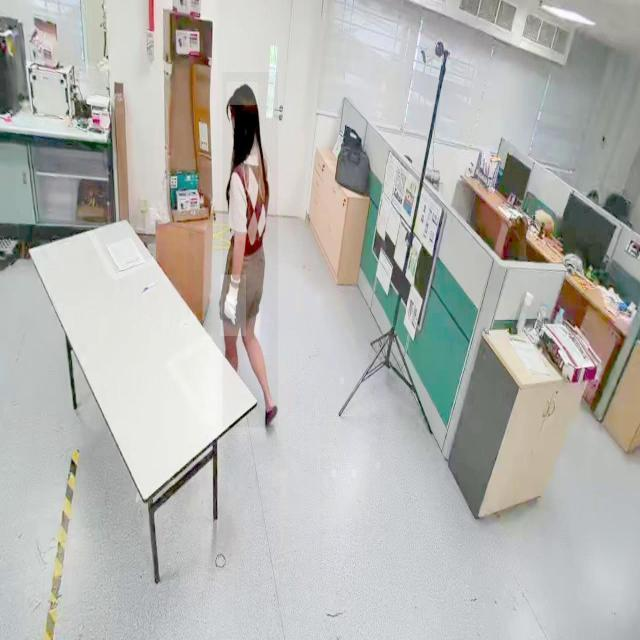hand_glove: (220, 275, 247, 337)
head_nohelmet: (227, 82, 259, 106)
person: (222, 72, 278, 428)
